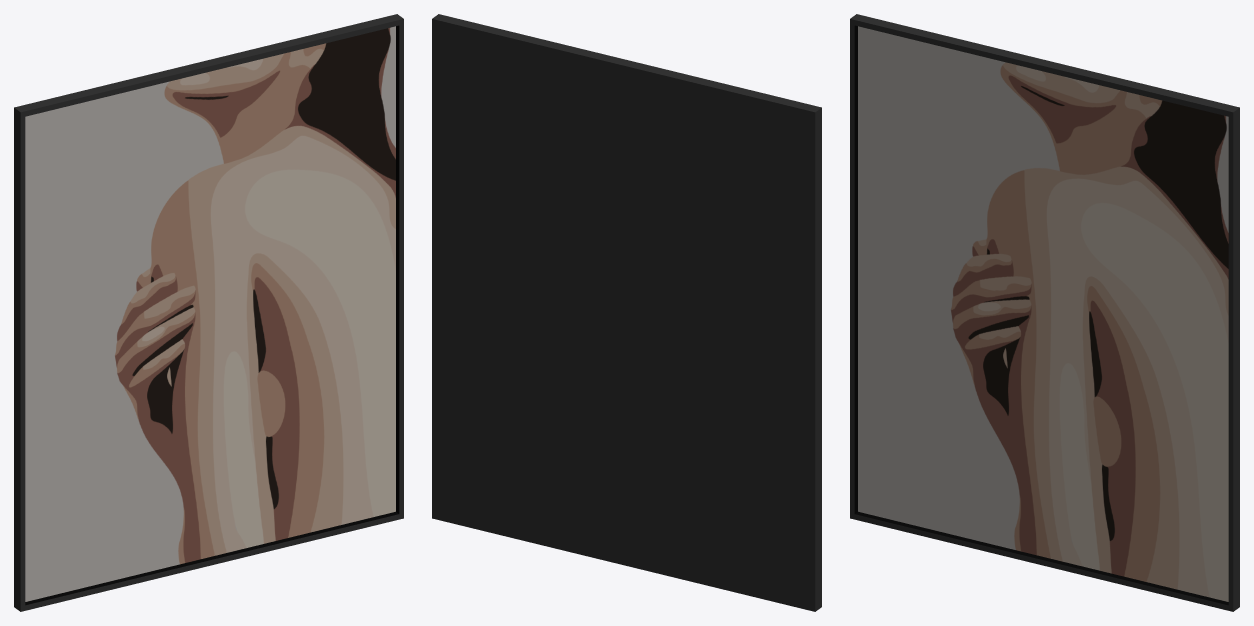
The model's file is frauw.gltf.
The picture shows the model from 3 angles, left to right: view 1: azimuth 30°, elevation 25°; view 2: azimuth 150°, elevation 25°; view 3: azimuth 330°, elevation 25°; orthographic projection.
Parts seen in each view (by area): view 1: Artboard_1_copy_8, Cube.644; view 2: Cube.644; view 3: Artboard_1_copy_8, Cube.644.
Part boxes in pixels (<box>): Artboard_1_copy_8: <box>25,26,395,601</box>; Cube.644: <box>14,14,403,611</box>; Cube.644: <box>432,14,821,611</box>; Artboard_1_copy_8: <box>858,26,1228,601</box>; Cube.644: <box>850,14,1239,611</box>.
Bounding box in the file's own units: 0.4251 × 0.5295 × 0.0128.
Materials: 3 (1 with a texture image).
